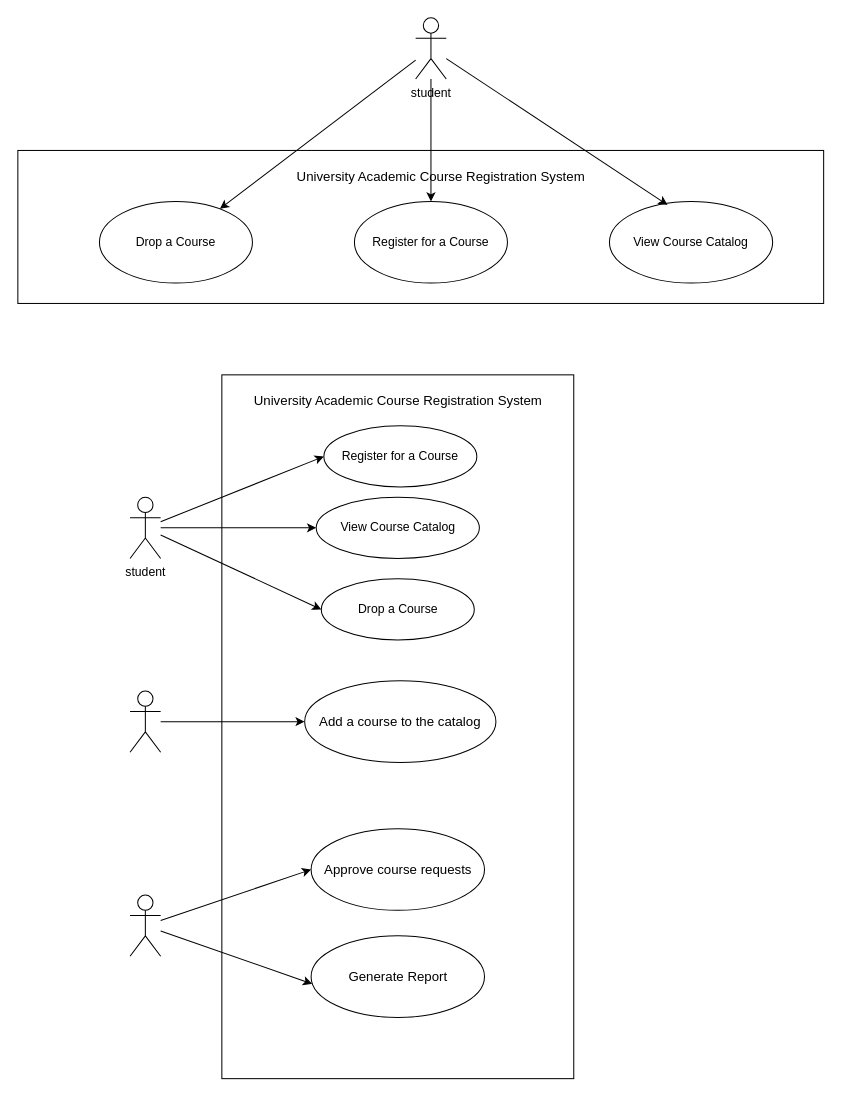
Image size: 842x1097. Some labels were removed from this diagram. The box of each missing label's shape, as (x1, y1, x2, y2) in pixels:
Admin: (129, 894, 161, 956)
Faculty: (129, 690, 161, 752)
